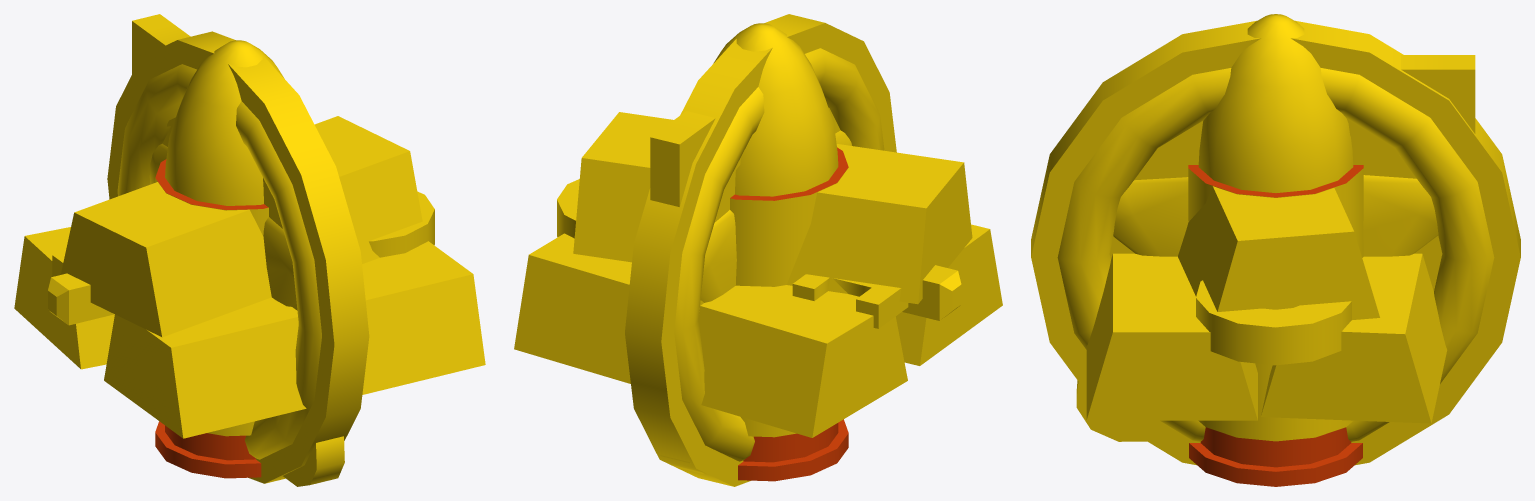
File: CollectiblesSet1.fbx
The picture shows the model from 3 angles, left to right: view 1: azimuth 30°, elevation 25°; view 2: azimuth 150°, elevation 25°; view 3: azimuth 270°, elevation 25°; orthographic projection. The views are drawn at different scales.
Visible parts, largest first — view 1: BarsOfGold, CoinGold, Bullet, Ring, KeyGold, NoteDoubleGold, Star; view 2: BarsOfGold, CoinGold, Bullet, Ring, KeyGold, NoteDoubleGold, Star; view 3: BarsOfGold, CoinGold, Bullet, Ring, Star, KeyGold, NoteDoubleGold, NoteSingleGold.
Boxes of the visible parts, box(x1,y1,x2,y2) form: BarsOfGold: box(14, 116, 485, 438); CoinGold: box(107, 31, 369, 483); Bullet: box(155, 40, 284, 478); Ring: box(117, 64, 321, 459); KeyGold: box(48, 191, 434, 325); NoteDoubleGold: box(132, 14, 344, 486); Star: box(149, 143, 296, 306); BarsOfGold: box(514, 112, 1002, 437); CoinGold: box(625, 14, 896, 486); Bullet: box(713, 23, 848, 481); Ring: box(674, 48, 884, 461); KeyGold: box(557, 179, 961, 328); NoteDoubleGold: box(650, 111, 715, 474); Star: box(700, 130, 851, 302); BarsOfGold: box(1086, 186, 1447, 423); CoinGold: box(1031, 20, 1520, 465); Bullet: box(1188, 14, 1363, 486); Ring: box(1057, 68, 1494, 441); Star: box(1113, 175, 1438, 256); KeyGold: box(1196, 280, 1351, 365); NoteDoubleGold: box(1076, 55, 1475, 441); NoteSingleGold: box(1347, 119, 1399, 155).
Size of the model in its own units: 2.14 by 2.31 by 2.25.
